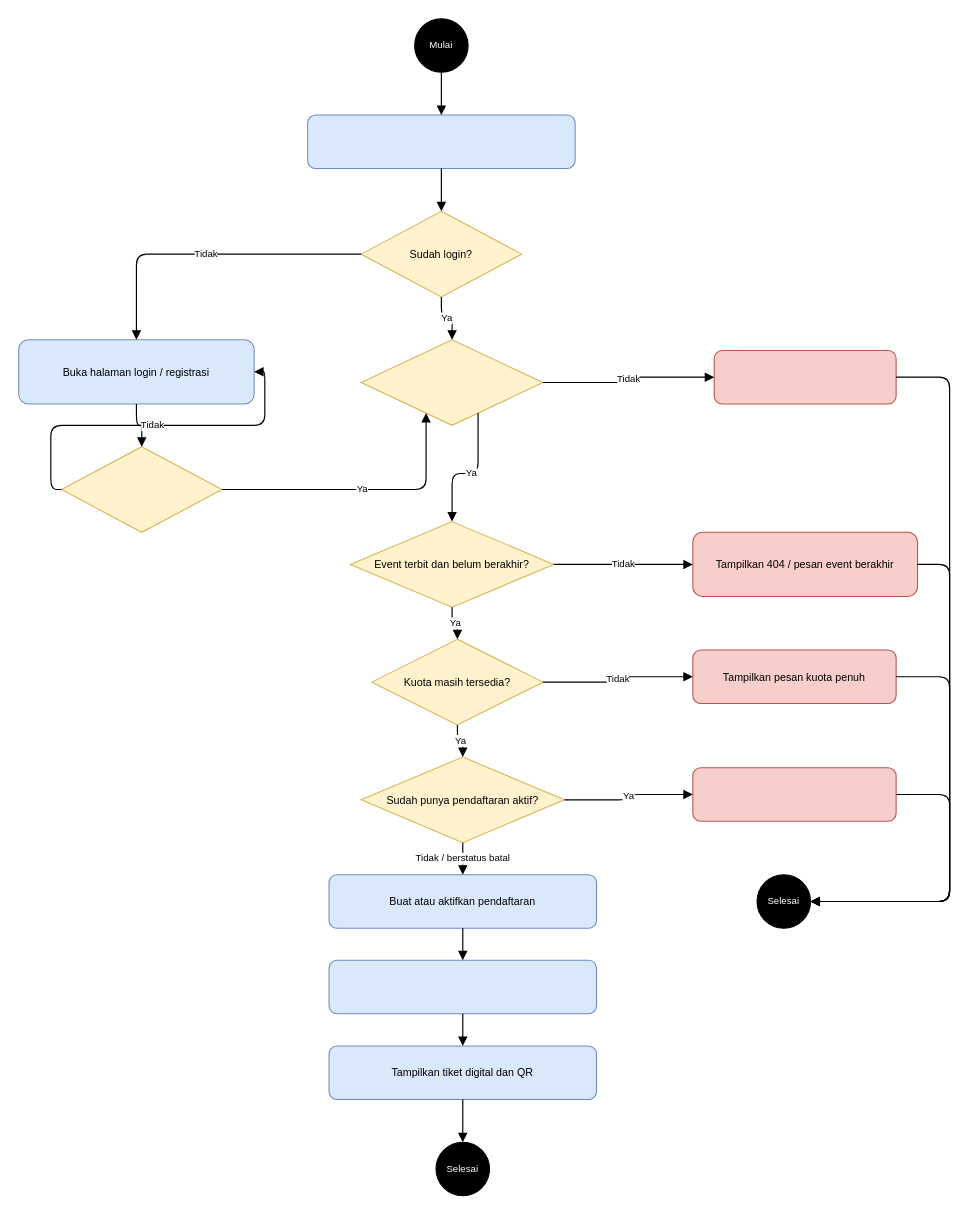
Some shapes in this 978 by 1214 pixel diagram are drawn without their labels. Each missing label, with the box of its shape:
Buka halaman detail event: (307, 114, 575, 169)
Generate kode tiket EVS-XXXXXXXX: (328, 959, 597, 1014)
Login berhasil?: (60, 446, 222, 532)
Role pengguna = peserta?: (360, 339, 543, 425)
Tampilkan pesan 403: (713, 349, 896, 404)
Tampilkan pesan sudah terdaftar: (692, 767, 896, 821)
